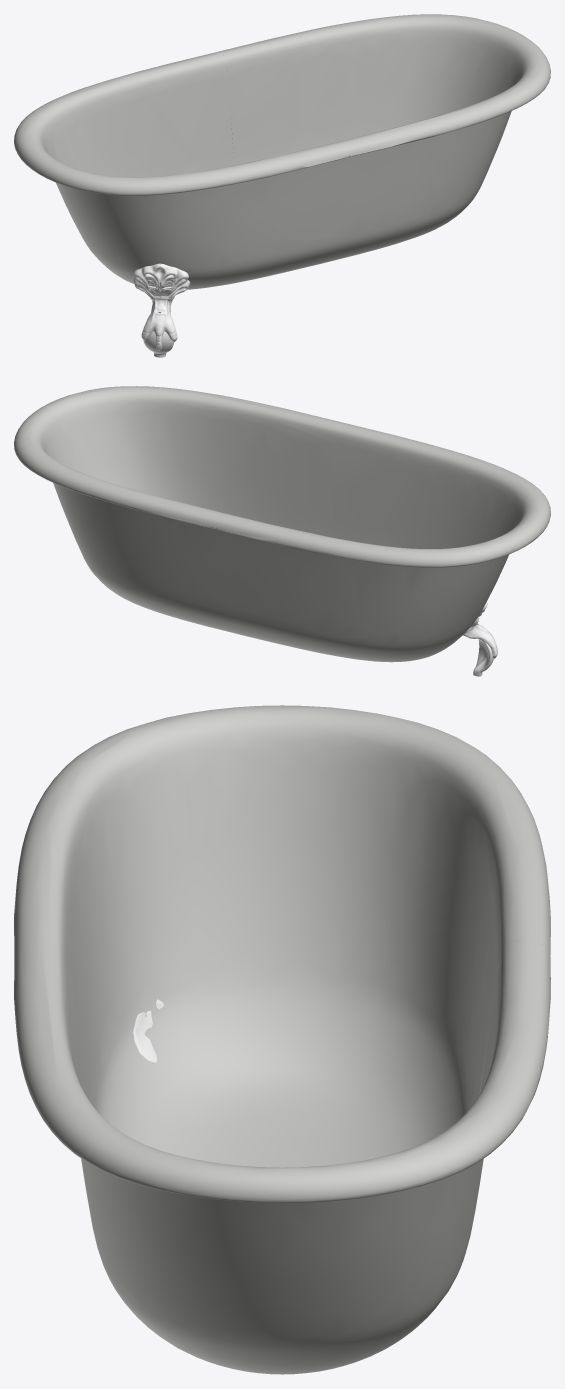
Rendered from bathtub.glb.
The picture shows the model from 3 angles, top to bottom: view 1: azimuth 30°, elevation 25°; view 2: azimuth 150°, elevation 25°; view 3: azimuth 270°, elevation 25°; orthographic projection. The views are drawn at different scales.
Visible parts, largest first — view 1: Bathtube_0001, Bathtube_0002, StainlessRough, StainlessSmooth_0001; view 2: Bathtube_0001, Bathtube_0002, StainlessRough, StainlessSmooth_0001; view 3: Bathtube_0001, Bathtube_0002, StainlessRough.
Part boxes in pixels (box(x1,y1,x2,y2)): Bathtube_0001: box(14, 14, 550, 195); Bathtube_0002: box(56, 71, 511, 289); StainlessRough: box(133, 263, 190, 350); StainlessSmooth_0001: box(143, 331, 173, 357); Bathtube_0001: box(14, 386, 550, 567); Bathtube_0002: box(53, 447, 508, 662); StainlessRough: box(463, 602, 497, 658); StainlessSmooth_0001: box(473, 638, 493, 676); Bathtube_0001: box(14, 705, 550, 1203); Bathtube_0002: box(61, 940, 541, 1374); StainlessRough: box(133, 999, 164, 1062).
Bounding box in the file's own units: 1.63 × 0.5996 × 0.7652.
Materials: 1 (1 with a texture image).
